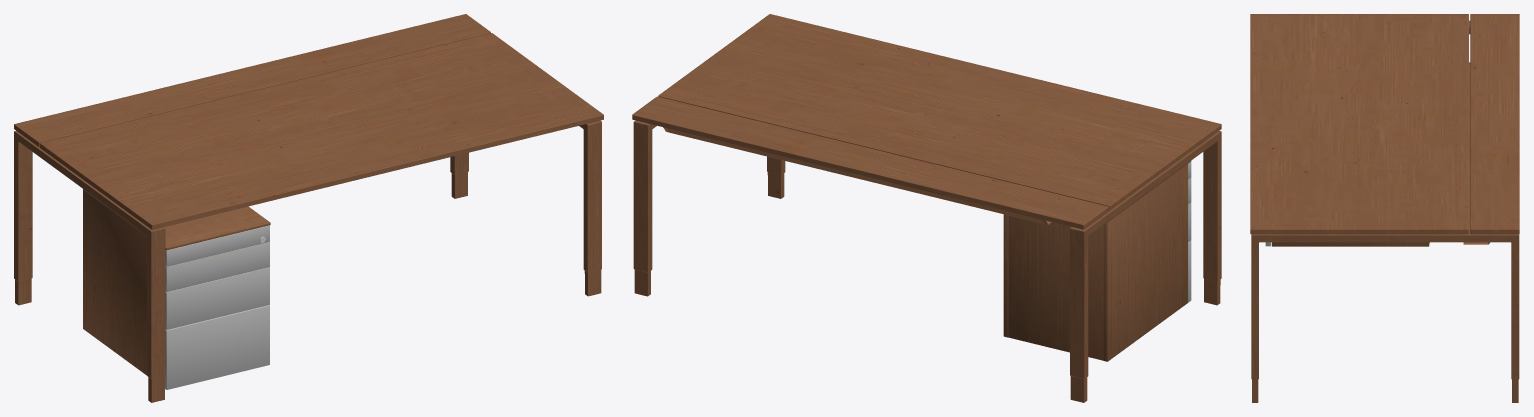
The model's file is drawer_desk-compressed.glb.
3 views of the same model, side by side, from view 1: azimuth 30°, elevation 25°; view 2: azimuth 150°, elevation 25°; view 3: azimuth 270°, elevation 25° (orthographic). The views are drawn at different scales.
Visible parts, largest first — view 1: Drawer_Desk; view 2: Drawer_Desk; view 3: Drawer_Desk.
Part boxes in pixels (left/top/right/bottom): Drawer_Desk: left=14, top=14, right=603, bottom=402; Drawer_Desk: left=632, top=14, right=1221, bottom=402; Drawer_Desk: left=1250, top=14, right=1519, bottom=402.
Size of the model in its own units: 1.87 by 0.7048 by 0.9878.
Materials: 1 (1 with a texture image).
